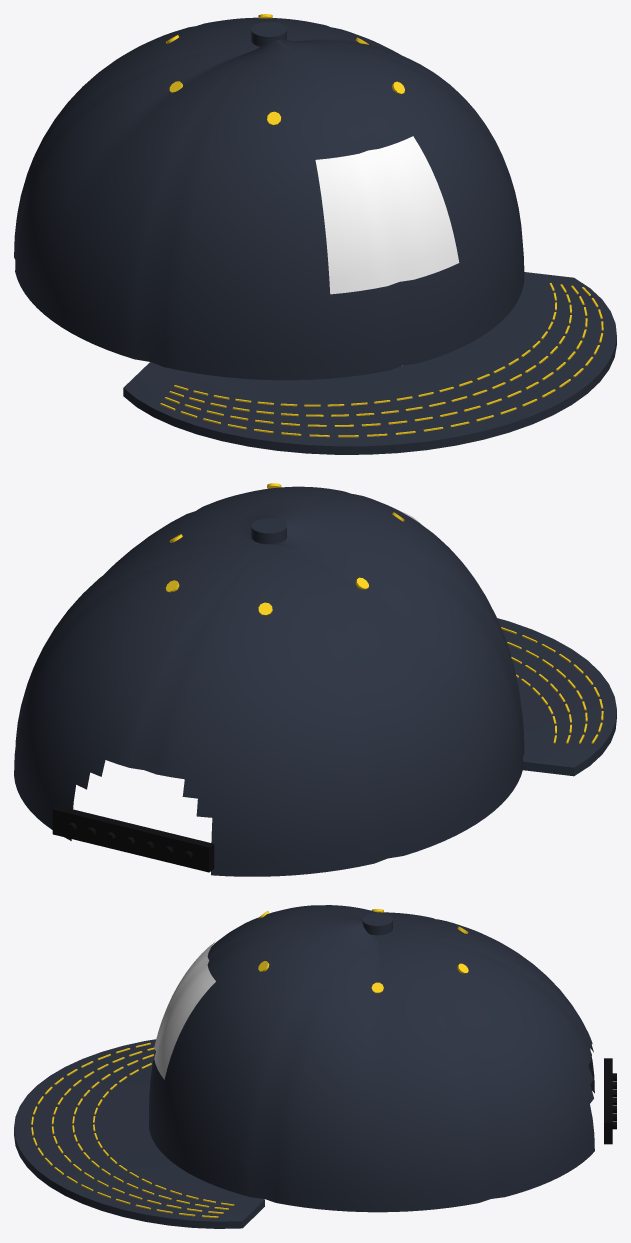
The model's file is bone_reto.glb.
3 renders of one model, top to bottom at view 1: azimuth 30°, elevation 25°; view 2: azimuth 150°, elevation 25°; view 3: azimuth 270°, elevation 25°, orthographic. The views are drawn at different scales.
Visible parts, largest first — view 1: Prop_bone_reto; view 2: Prop_bone_reto; view 3: Prop_bone_reto.
Boxes of the visible parts, x1,y1,x2,y2 form: Prop_bone_reto: (14, 14, 616, 454); Prop_bone_reto: (14, 483, 616, 876); Prop_bone_reto: (14, 905, 616, 1228).
Bounding box in the file's own units: 0.3043 × 0.1627 × 0.4128.
